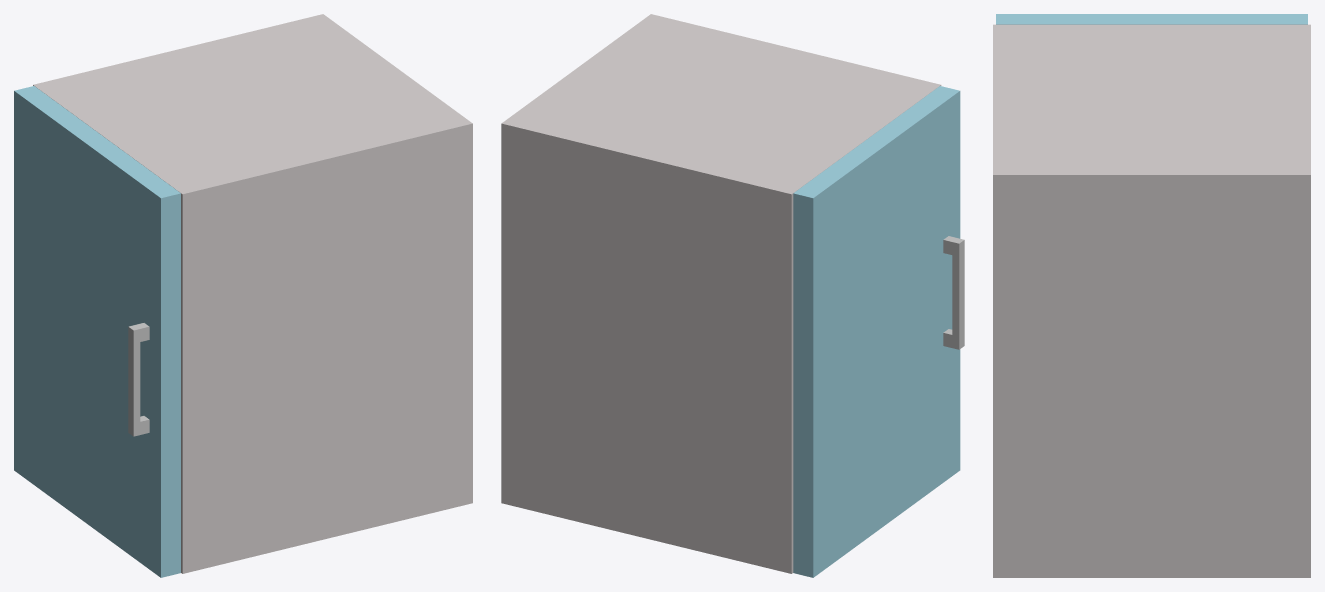
File: CounterType1_NoParenting.fbx
The picture shows the model from 3 angles, left to right: view 1: azimuth 30°, elevation 25°; view 2: azimuth 150°, elevation 25°; view 3: azimuth 270°, elevation 25°; orthographic projection. The views are drawn at different scales.
Visible parts, largest first — view 1: CounterType1, CounterType1Door; view 2: CounterType1, CounterType1Door; view 3: CounterType1, CounterType1Door.
Boxes of the visible parts, bbox=[...] form: CounterType1: bbox=[33, 14, 472, 573]; CounterType1Door: bbox=[14, 86, 180, 577]; CounterType1: bbox=[501, 14, 941, 573]; CounterType1Door: bbox=[793, 86, 964, 577]; CounterType1: bbox=[993, 24, 1310, 577]; CounterType1Door: bbox=[996, 14, 1307, 24].
Size of the model in its own units: 62.97 by 70 by 50.
